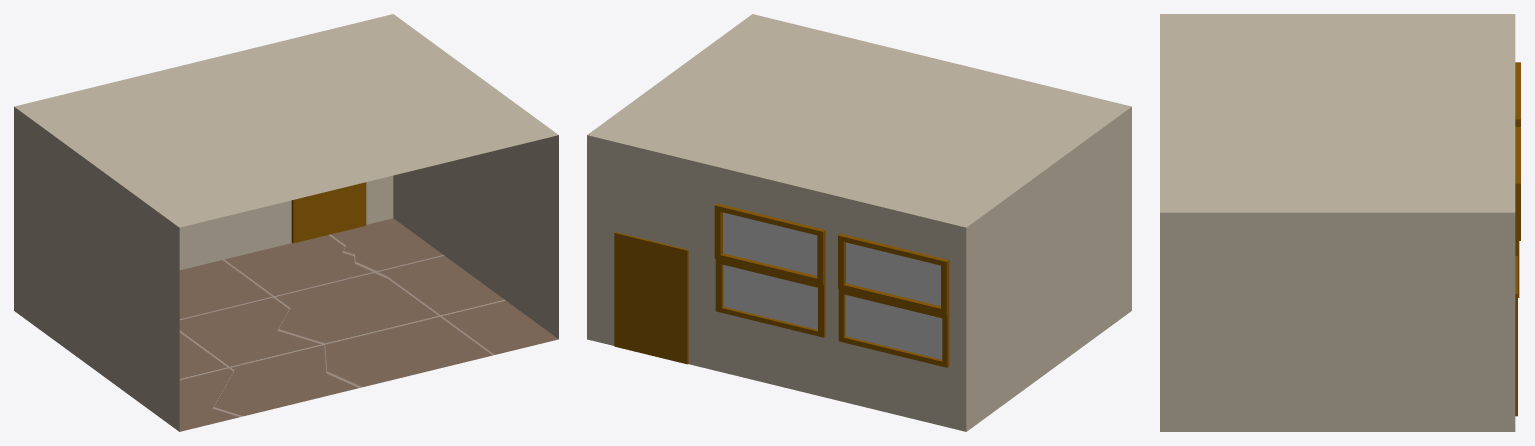
File: ruangtokofix.fbx
The picture shows the model from 3 angles, left to right: view 1: azimuth 30°, elevation 25°; view 2: azimuth 150°, elevation 25°; view 3: azimuth 270°, elevation 25°; orthographic projection. The views are drawn at different scales.
Parts seen in each view (by area): view 1: ruang.001; view 2: ruang.001; view 3: ruang.001.
Part boxes in pixels (left/top/right/bottom): ruang.001: left=14, top=14, right=558, bottom=431; ruang.001: left=587, top=14, right=1131, bottom=431; ruang.001: left=1160, top=14, right=1520, bottom=431.
Size of the model in its own units: 2618 by 1347 by 2009.
